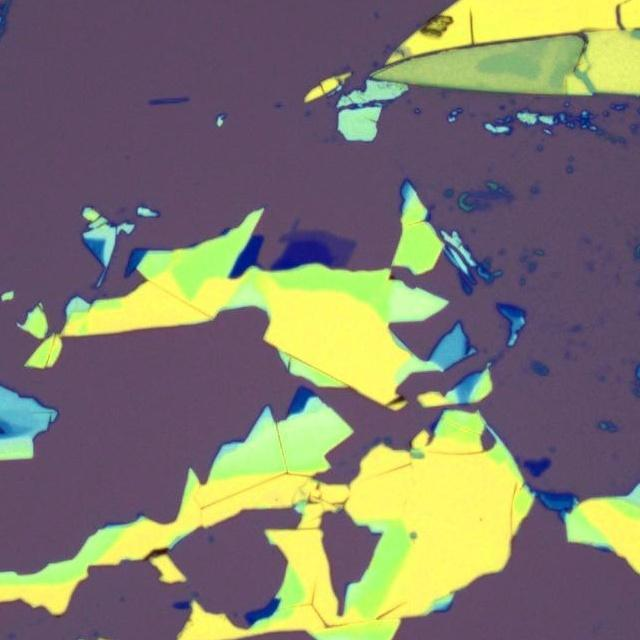monolayer-eWW4: (284, 225, 354, 270)
